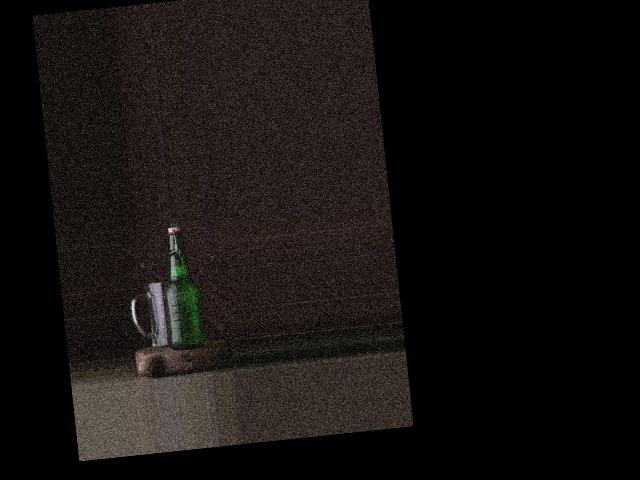beer: (158, 225, 204, 350)
